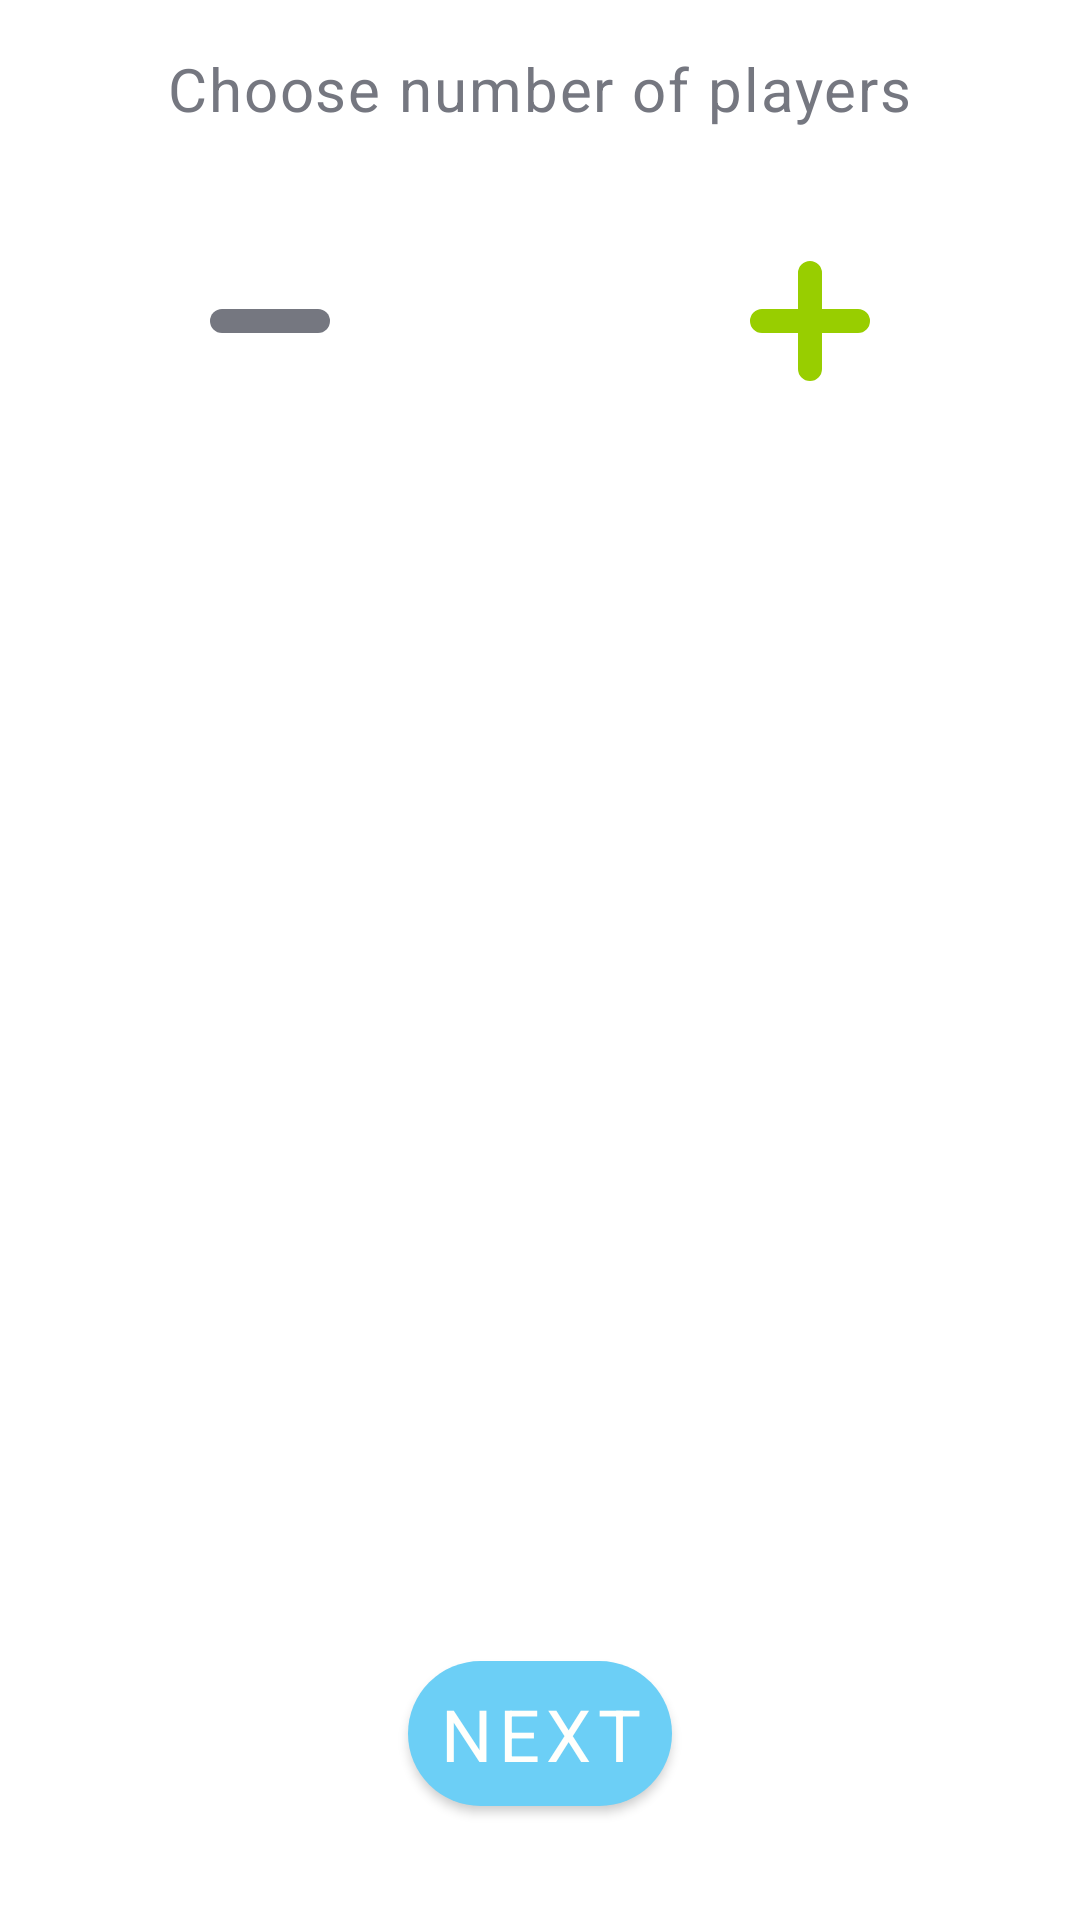

Icons on this 1080w x 1920h Android screen, each with the point to tap as (x=x, y=y):
minus: (x=270, y=321)
plus: (x=810, y=321)
